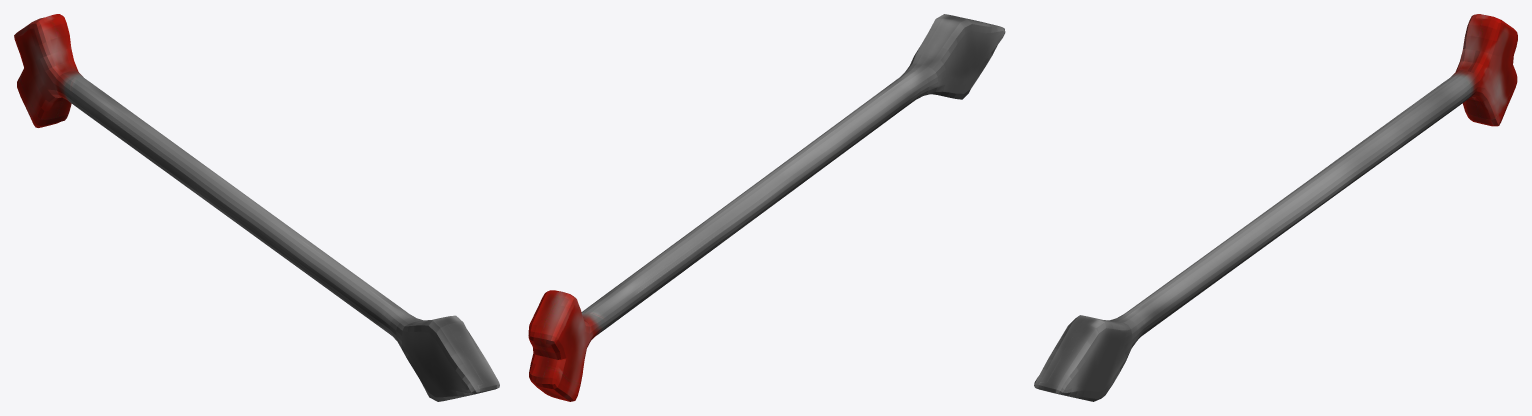
3 views of the same model, side by side, from view 1: azimuth 30°, elevation 25°; view 2: azimuth 150°, elevation 25°; view 3: azimuth 330°, elevation 25° (orthographic).
Parts seen in each view (by area): view 1: arrow; view 2: arrow; view 3: arrow.
Boxes of the visible parts, x1,y1,x2,y2 form: arrow: (14, 14, 499, 401); arrow: (528, 14, 1005, 401); arrow: (1034, 14, 1517, 401).
Size of the model in its own units: 1.35 by 4.42 by 33.96.
